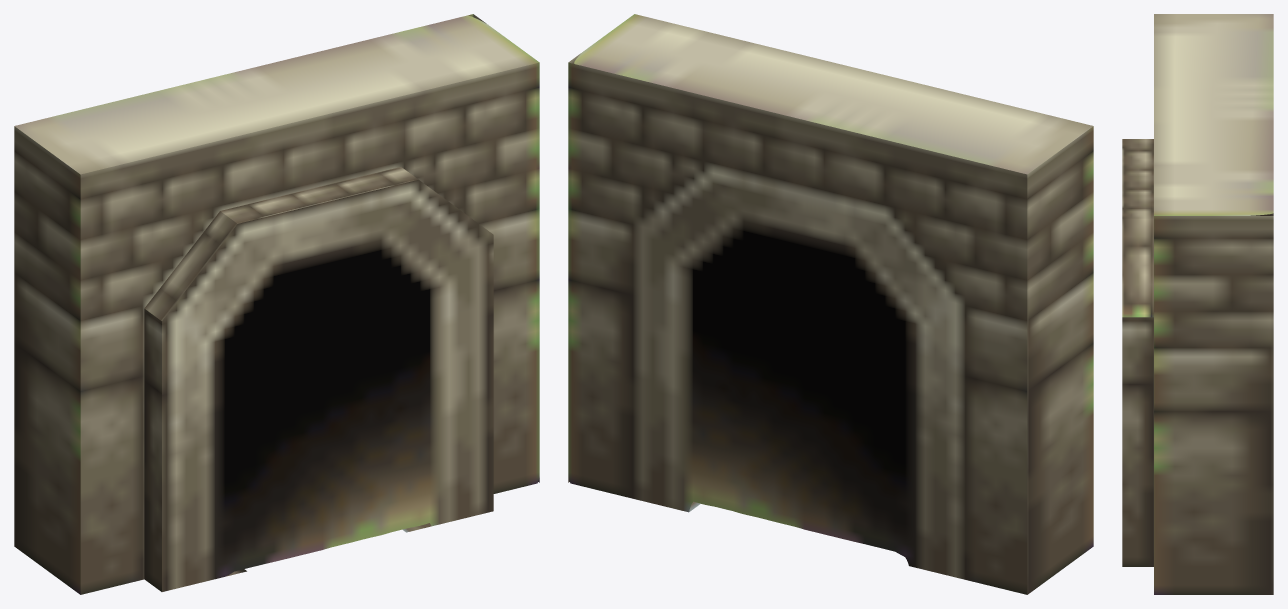
The model's file is Poly_World_Map_Entrance_04.obj.
The picture shows the model from 3 angles, left to right: view 1: azimuth 30°, elevation 25°; view 2: azimuth 150°, elevation 25°; view 3: azimuth 270°, elevation 25°; orthographic projection. The views are drawn at different scales.
Parts seen in each view (by area): view 1: Grid.006, Grid.001; view 2: Grid.006; view 3: Grid.006, Grid.001.
Boxes of the visible parts, x1=… form: Grid.006: x1=14, y1=14, x2=539, y2=594; Grid.001: x1=144, y1=167, x2=493, y2=591; Grid.006: x1=568, y1=14, x2=1093, y2=594; Grid.006: x1=1154, y1=14, x2=1273, y2=594; Grid.001: x1=1122, y1=139, x2=1153, y2=566.
Bounding box in the file's own units: 0.8 × 0.7 × 0.2531.
1 material, 1 textured.
